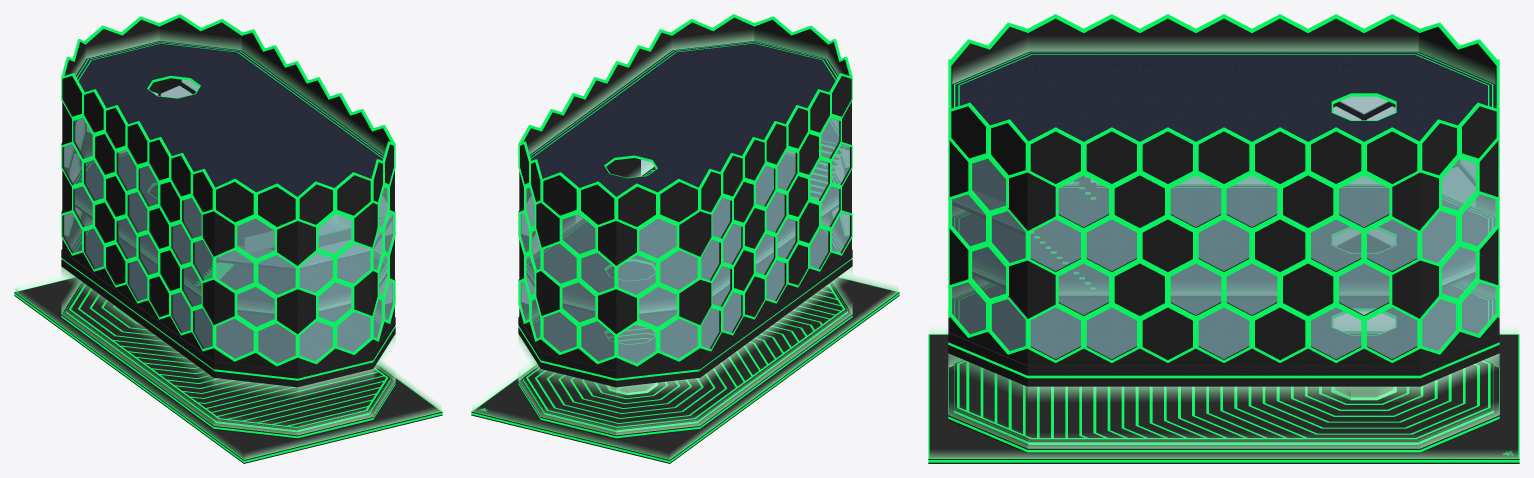
The model's file is Dhingia Builds 07 Size 2x1 Green.glb.
3 renders of one model, left to right at view 1: azimuth 30°, elevation 25°; view 2: azimuth 150°, elevation 25°; view 3: azimuth 270°, elevation 25°, orthographic. The views are drawn at different scales.
Visible parts, largest first — view 1: Mesh_16, Mesh_6.001, Mesh_0, Mesh_3, Mesh_2, Mesh_10, Mesh_18, Mesh_19, Mesh_4, Mesh_20, Mesh_1, Mesh_5 (+1 smaller); view 2: Mesh_16, Mesh_6.001, Mesh_0, Mesh_4, Mesh_2, Mesh_10, Mesh_18, Mesh_19, Mesh_1, Mesh_3, Mesh_20, Mesh_17; view 3: Mesh_1, Mesh_6.001, Mesh_0, Mesh_16, Mesh_10, Mesh_18, Mesh_19, Mesh_4, Mesh_3, Mesh_2, Mesh_20, Mesh_17 (+1 smaller).
Boxes of the visible parts, x1=… form: Mesh_16: x1=75, y1=41, x2=384, y2=196; Mesh_6.001: x1=64, y1=79, x2=393, y2=363; Mesh_0: x1=14, y1=277, x2=442, y2=463; Mesh_3: x1=213, y1=141, x2=395, y2=387; Mesh_2: x1=61, y1=73, x2=214, y2=377; Mesh_10: x1=15, y1=32, x2=441, y2=459; Mesh_18: x1=73, y1=152, x2=386, y2=315; Mesh_19: x1=72, y1=225, x2=381, y2=362; Mesh_4: x1=61, y1=14, x2=242, y2=259; Mesh_20: x1=69, y1=284, x2=388, y2=427; Mesh_1: x1=242, y1=29, x2=395, y2=326; Mesh_5: x1=219, y1=209, x2=390, y2=267; Mesh_16: x1=529, y1=41, x2=838, y2=196; Mesh_6.001: x1=520, y1=118, x2=849, y2=363; Mesh_0: x1=471, y1=277, x2=899, y2=463; Mesh_4: x1=518, y1=141, x2=700, y2=387; Mesh_2: x1=699, y1=73, x2=852, y2=377; Mesh_10: x1=472, y1=32, x2=898, y2=459; Mesh_18: x1=527, y1=152, x2=840, y2=315; Mesh_19: x1=532, y1=224, x2=841, y2=362; Mesh_1: x1=518, y1=29, x2=671, y2=326; Mesh_3: x1=671, y1=14, x2=852, y2=259; Mesh_20: x1=526, y1=284, x2=845, y2=427; Mesh_17: x1=652, y1=120, x2=849, y2=205; Mesh_1: x1=1027, y1=127, x2=1420, y2=386; Mesh_6.001: x1=952, y1=96, x2=1495, y2=358; Mesh_0: x1=928, y1=331, x2=1519, y2=463; Mesh_16: x1=951, y1=51, x2=1496, y2=141; Mesh_10: x1=929, y1=40, x2=1518, y2=458; Mesh_18: x1=952, y1=185, x2=1495, y2=298; Mesh_19: x1=952, y1=283, x2=1495, y2=358; Mesh_4: x1=1419, y1=22, x2=1499, y2=386; Mesh_3: x1=948, y1=22, x2=1028, y2=386; Mesh_2: x1=1028, y1=14, x2=1419, y2=252; Mesh_20: x1=957, y1=332, x2=1490, y2=439; Mesh_17: x1=952, y1=159, x2=1095, y2=288.
Size of what is drawn, in the model's own units: 15.95 by 19.7 by 31.95.
5 materials, 3 textured.
